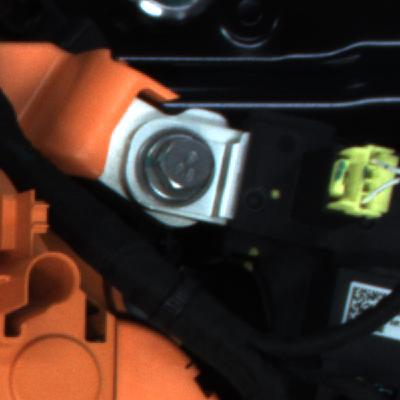nut_b: (130, 119, 228, 212)
